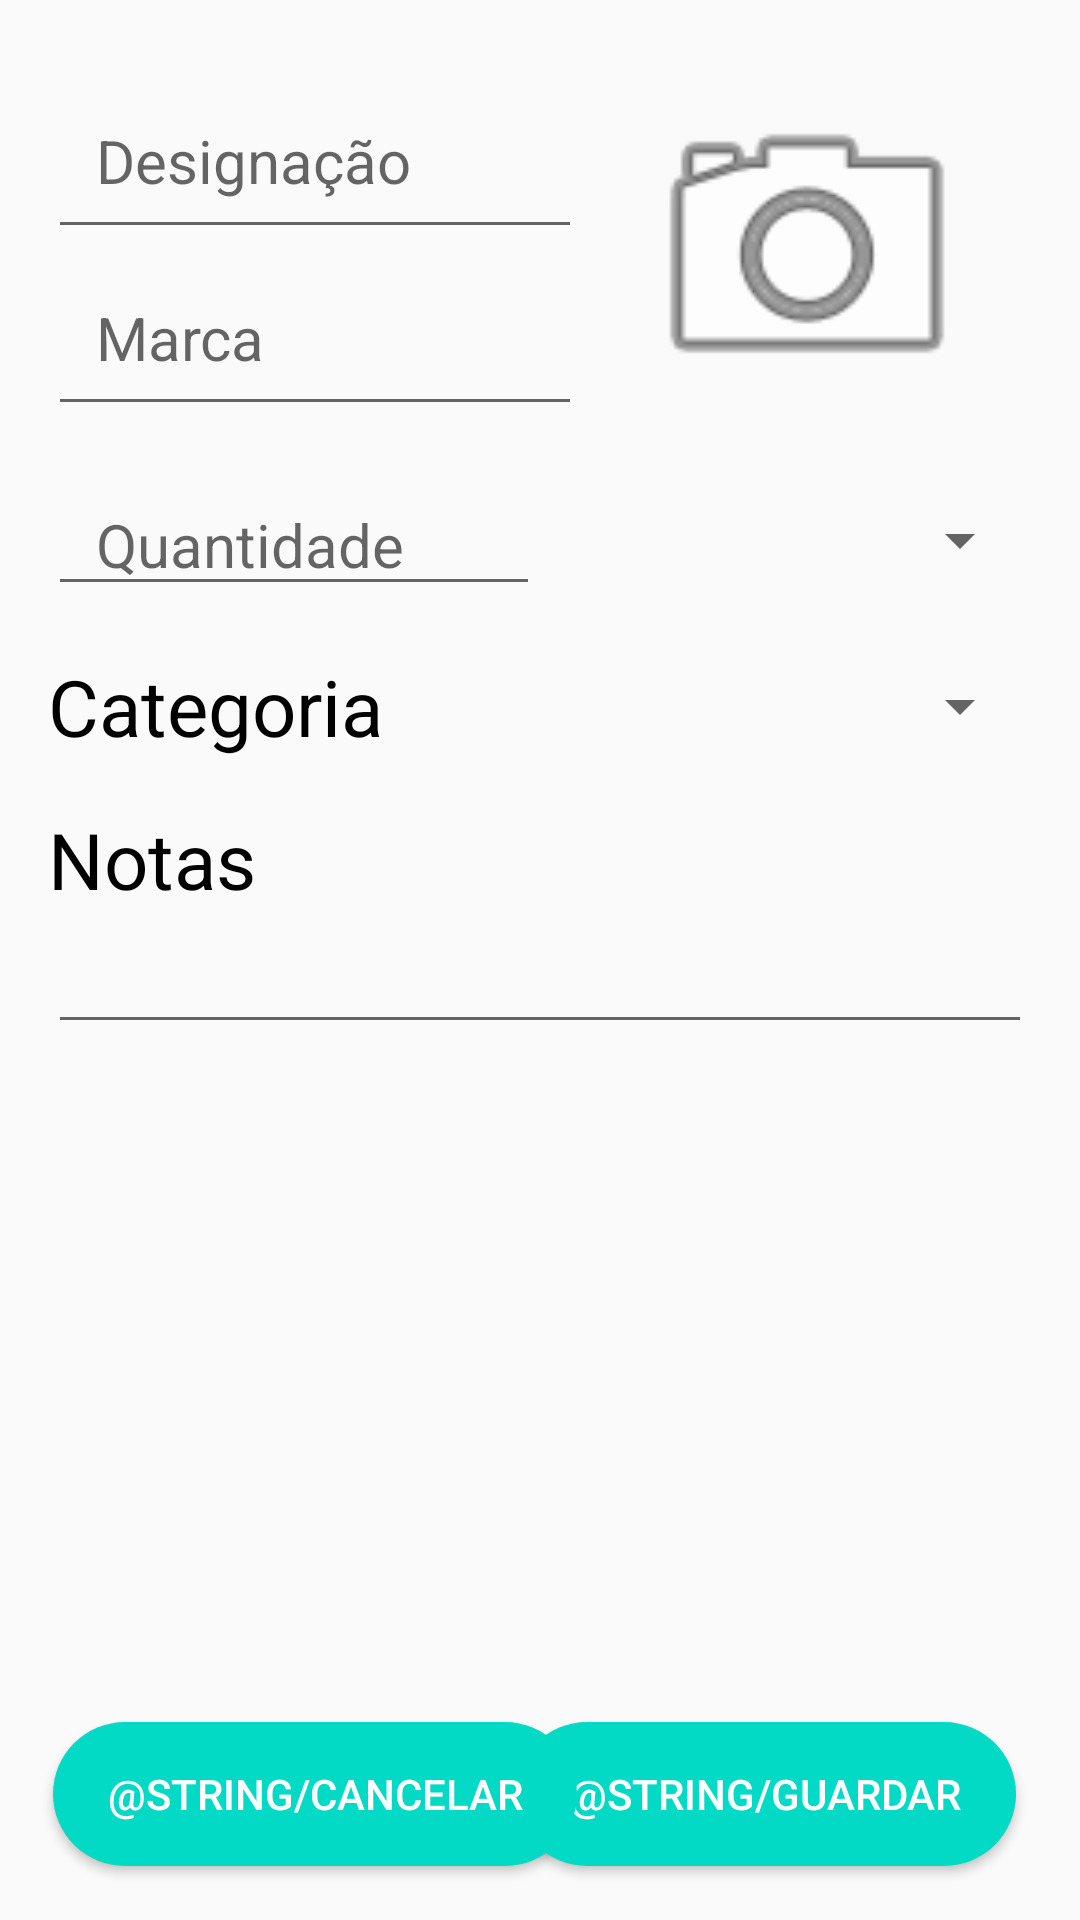

Screen size 1080*1920. Icon name, then its box in pixels as (x1, y1, x2, y2):
camera: (670, 134, 944, 353)
